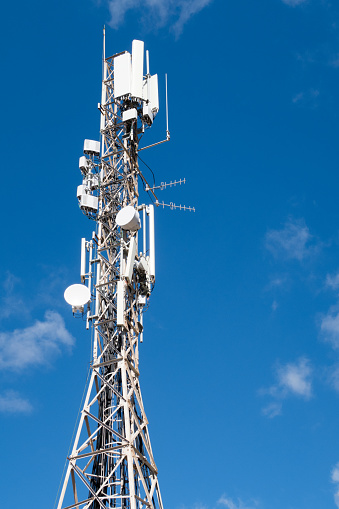a: (111, 54, 129, 97), (132, 39, 143, 97), (148, 206, 157, 274), (148, 75, 158, 110), (116, 282, 123, 325), (80, 239, 84, 278)
b: (65, 283, 89, 307), (114, 205, 136, 230)
